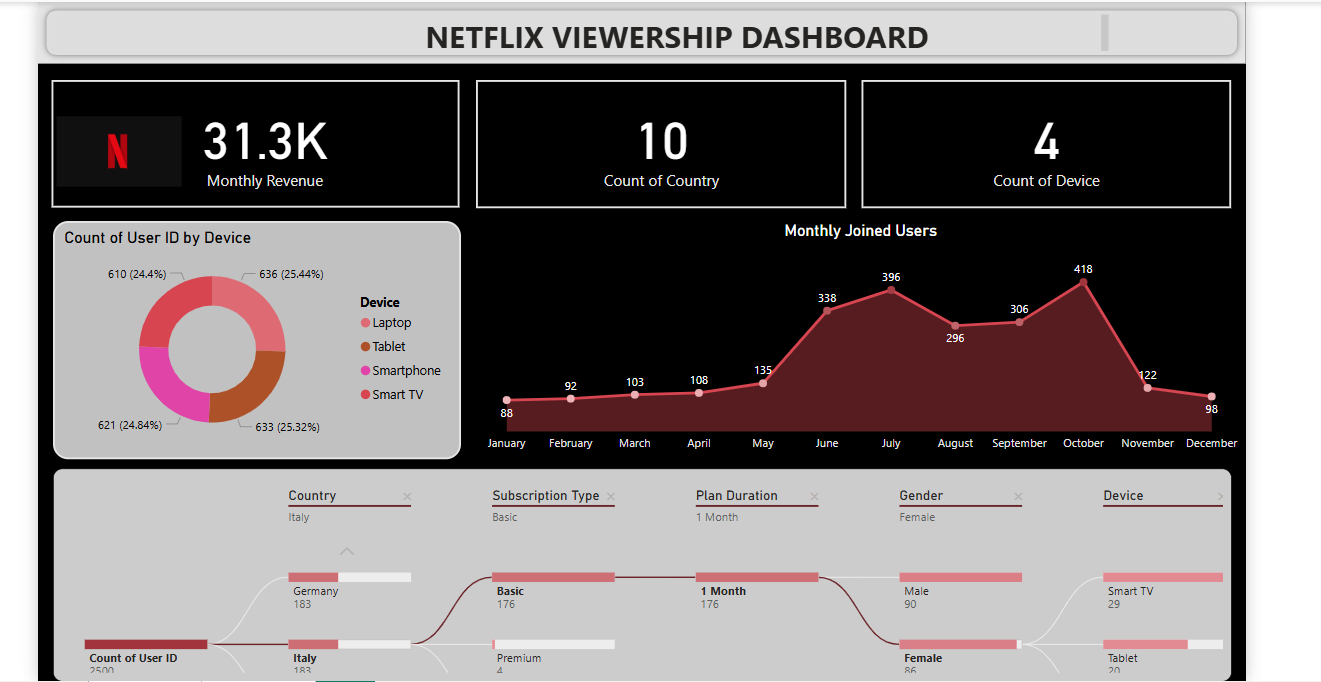

Layout of this report page (visuals, bound fields, positions):
{"tool":"powerbi","page":{"name":"Page 1","canvas":[1280,720],"ordinal":0},"visuals":[{"type":"card","fields":{"Values":["Sum(Netflix Userbase.Monthly Revenue)"]},"box":[14.3,82.7,432.6,135.2],"z":0},{"type":"card","fields":{"Values":["Count(Netflix Userbase.Country)"]},"box":[463.8,83,392.9,135.7],"z":1000},{"type":"card","fields":{"Values":["Count(Netflix Userbase.Device)"]},"box":[872.9,83,392,135.7],"z":2000},{"type":"donutChart","fields":{"Y":["CountNonNull(Netflix Userbase.User ID)"],"Category":["Netflix Userbase.Device"]},"box":[15.9,232.2,432.6,252.9],"z":3000},{"type":"areaChart","title":"Monthly Joined Users","fields":{"Category":["Netflix Userbase.Join Date.Variation.Date Hierarchy.Month"],"Y":["CountNonNull(Netflix Userbase.User ID)"]},"box":[464.5,232.2,816,252.9],"z":4000},{"type":"shape","box":[0,0,1280.4,65.2],"z":5000},{"type":"textbox","box":[230.6,8,909.8,50.9],"z":6000},{"type":"decompositionTreeVisual","fields":{"Analyze":["CountNonNull(Netflix Userbase.User ID)"],"ExplainBy":["Netflix Userbase.Country","Netflix Userbase.Subscription Type","Netflix Userbase.Plan Duration","Netflix Userbase.Gender","Netflix Userbase.Device"]},"box":[15.9,494.7,1250.2,225.9],"z":7000},{"type":"image","box":[14.3,65.2,143.2,186.1],"z":8000}]}

Visuals, with their boxes in screenshot pixels (x1, y1, x2, y2):
card - Sum(Netflix Userbase.Monthly Revenue): 34:77:453:207
card - Count(Netflix Userbase.Country): 469:77:849:208
card - Count(Netflix Userbase.Device): 865:77:1244:208
donutChart - CountNonNull(Netflix Userbase.User ID) x Netflix Userbase.Device: 36:221:454:466
"Monthly Joined Users" areaChart: 470:221:1259:466
shape: 21:0:1259:60
textbox: 244:4:1124:54
decompositionTreeVisual - CountNonNull(Netflix Userbase.User ID) x Netflix Userbase.Country: 36:475:1245:681
image: 34:60:173:240
